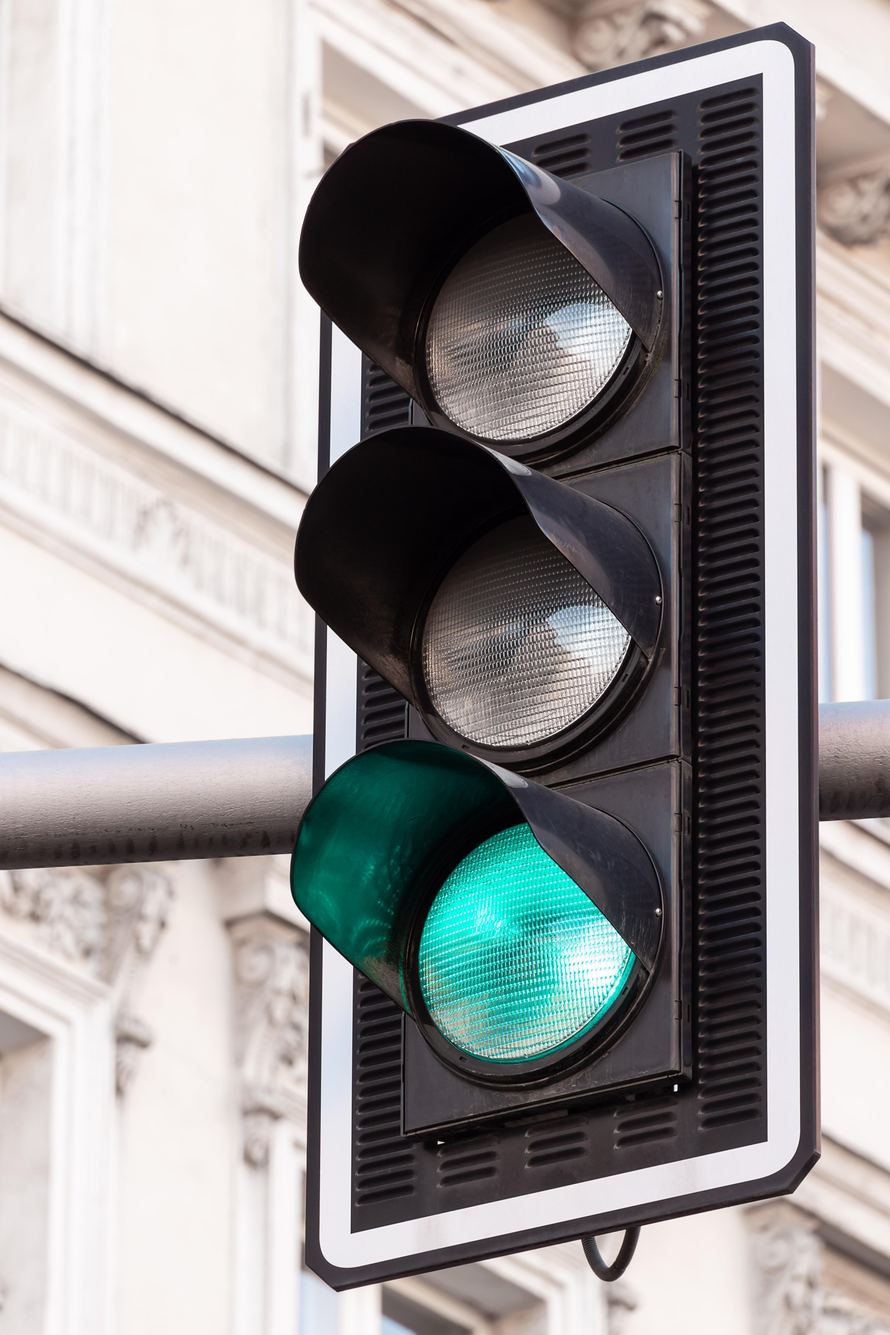green: (233, 103, 890, 1278)
